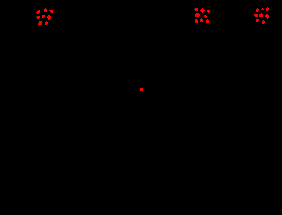Target: (200, 8, 205, 13), (195, 13, 200, 17), (265, 14, 269, 19), (47, 15, 51, 20), (36, 10, 40, 14), (259, 13, 263, 17), (38, 21, 42, 25), (266, 7, 269, 11), (44, 8, 47, 12), (194, 8, 198, 11), (256, 8, 259, 12), (49, 10, 53, 13), (254, 14, 258, 17), (36, 16, 40, 19), (200, 18, 203, 22), (195, 19, 198, 23), (206, 19, 209, 23), (262, 20, 265, 24), (45, 21, 48, 25), (207, 10, 210, 13), (42, 15, 45, 18), (204, 15, 207, 18), (256, 19, 259, 22), (140, 88, 143, 91), (261, 8, 264, 10)
